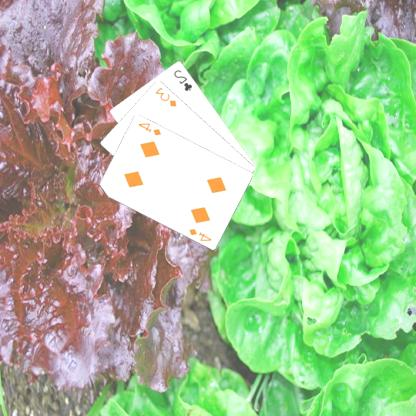2C: (172, 66, 196, 92)
3D: (154, 84, 180, 108)
4D: (137, 120, 164, 137), (188, 226, 214, 242)
